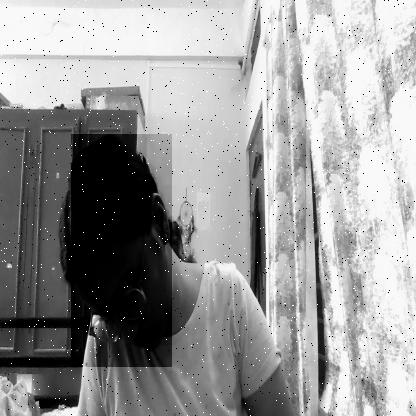Distracted: (71, 134, 172, 367)
